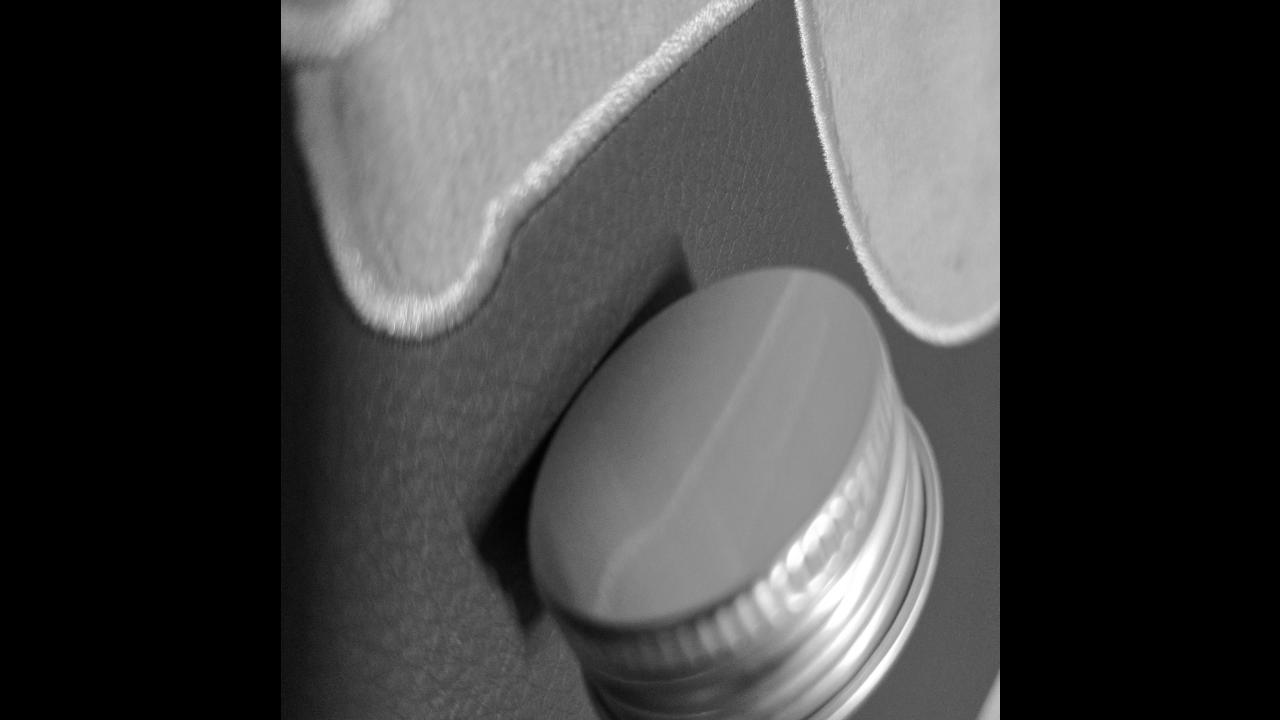bottle_cap: (526, 264, 941, 720)
